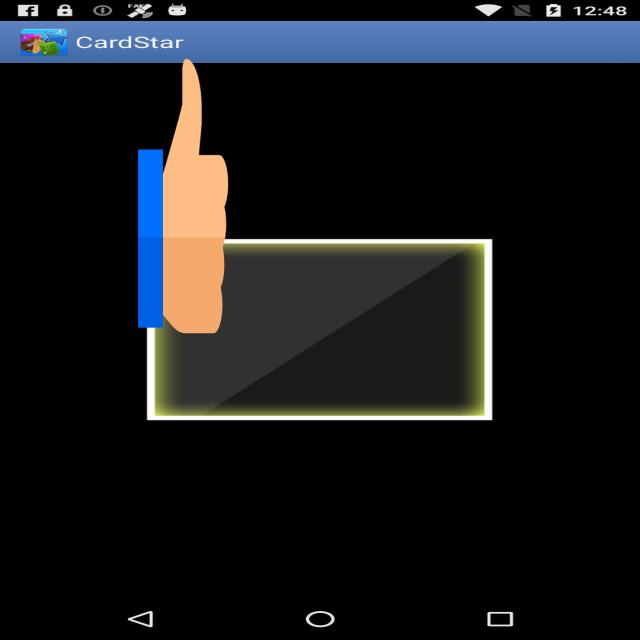privacy zuckering: (138, 52, 228, 340)
